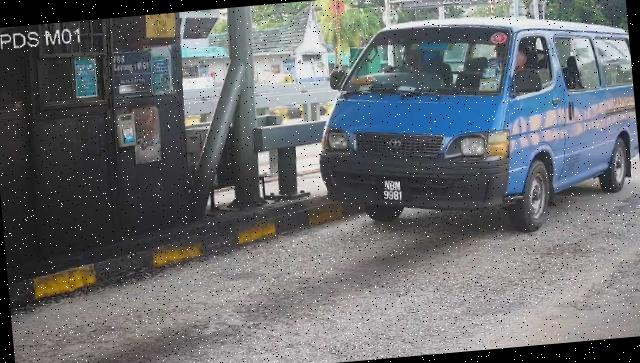License_Plate: (378, 174, 410, 207)
van: (306, 5, 640, 253)
